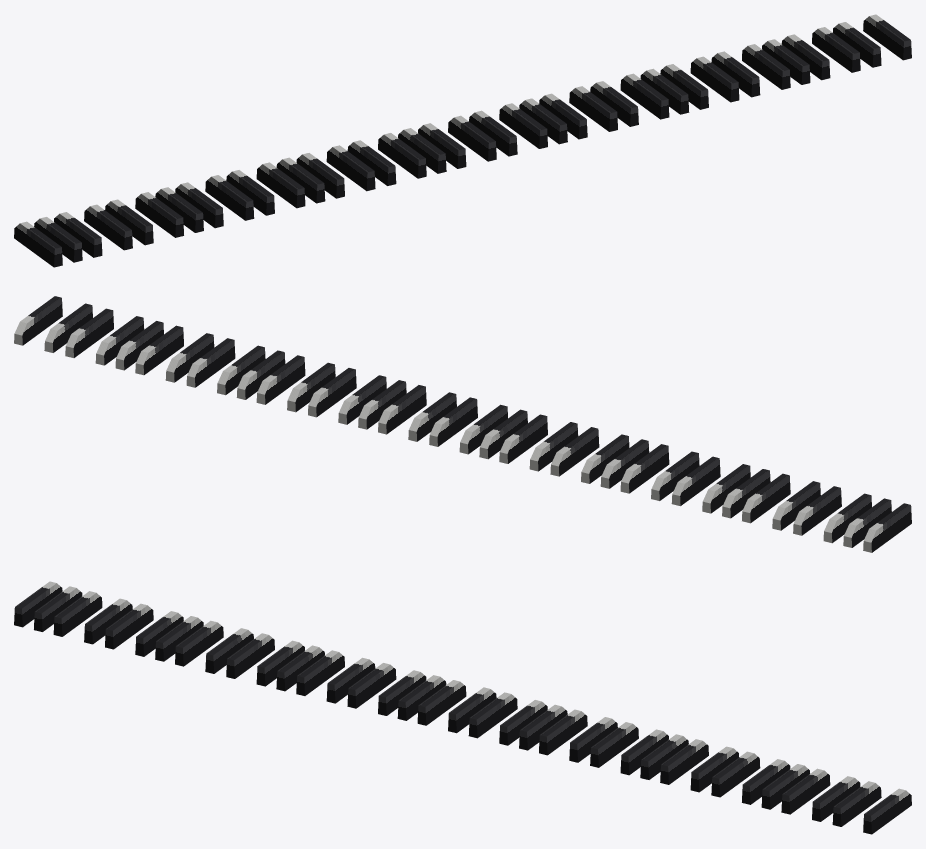
File: black_keys.obj
3 views of the same model, one above another, from view 1: azimuth 30°, elevation 25°; view 2: azimuth 150°, elevation 25°; view 3: azimuth 330°, elevation 25° (orthographic).
Bounding box in the file's own units: 1.16 × 0.024 × 0.094.
